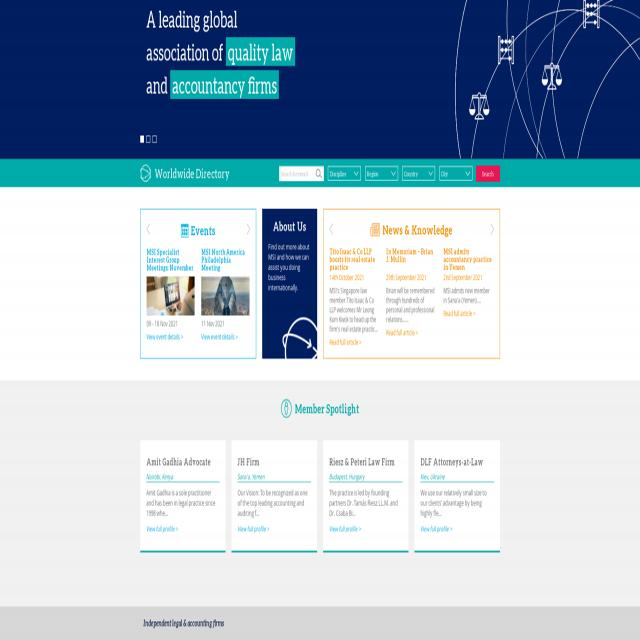button: (262, 209, 317, 358), (328, 167, 361, 180), (365, 167, 398, 180), (403, 167, 435, 180), (440, 167, 472, 180), (476, 166, 500, 181), (243, 215, 253, 241), (144, 219, 152, 242), (490, 221, 496, 235), (152, 134, 158, 145), (330, 221, 334, 235), (146, 135, 151, 144), (140, 134, 144, 145)
field: (279, 166, 324, 181)
